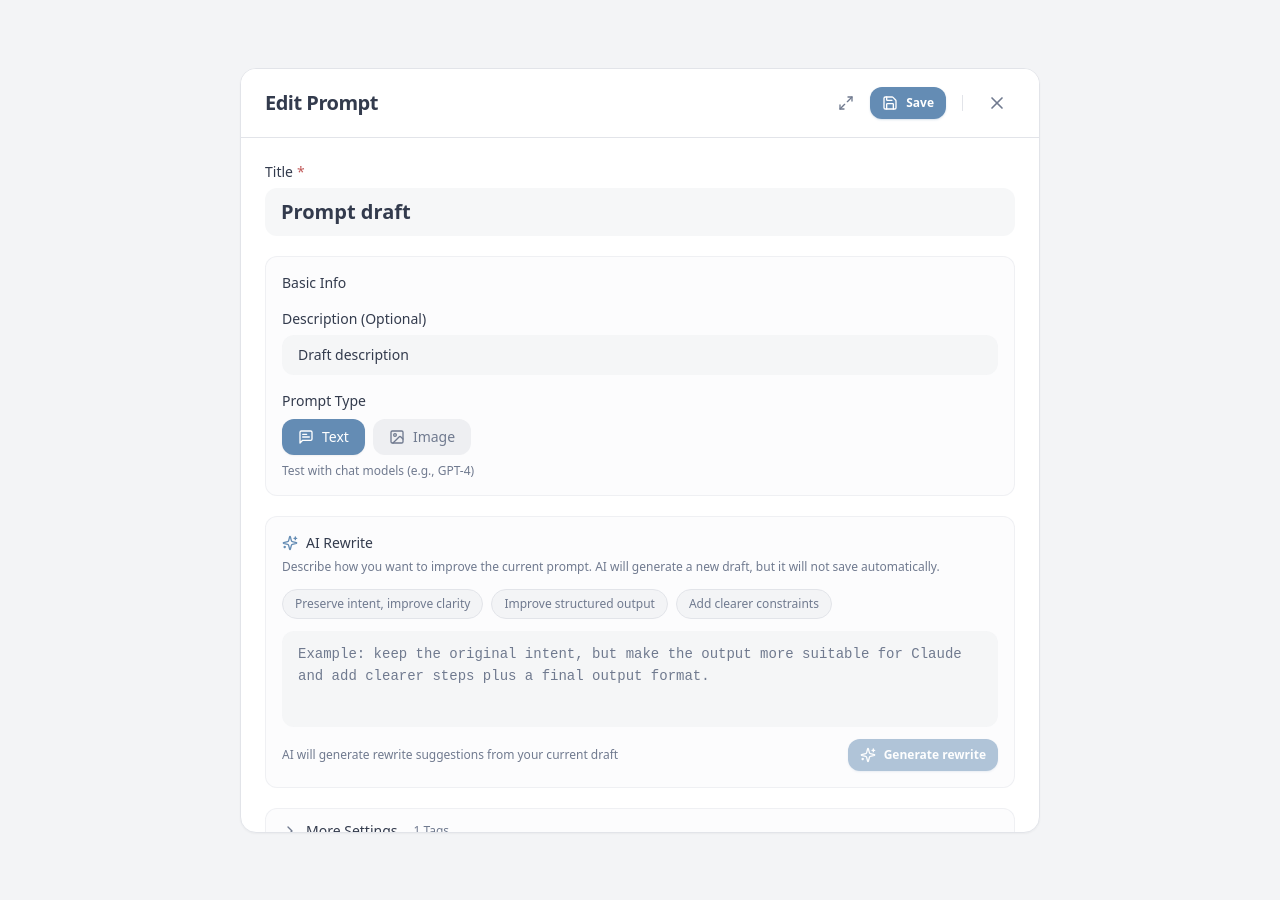
Test case: Prompt modal structure › surfaces rewrite failures from the AI service
Click the text box with placeholder "Example: keep the original intent, but make the output more suitable for Claude and add clearer steps plus a final outpu" at (640, 678), box [282,630,998,726]
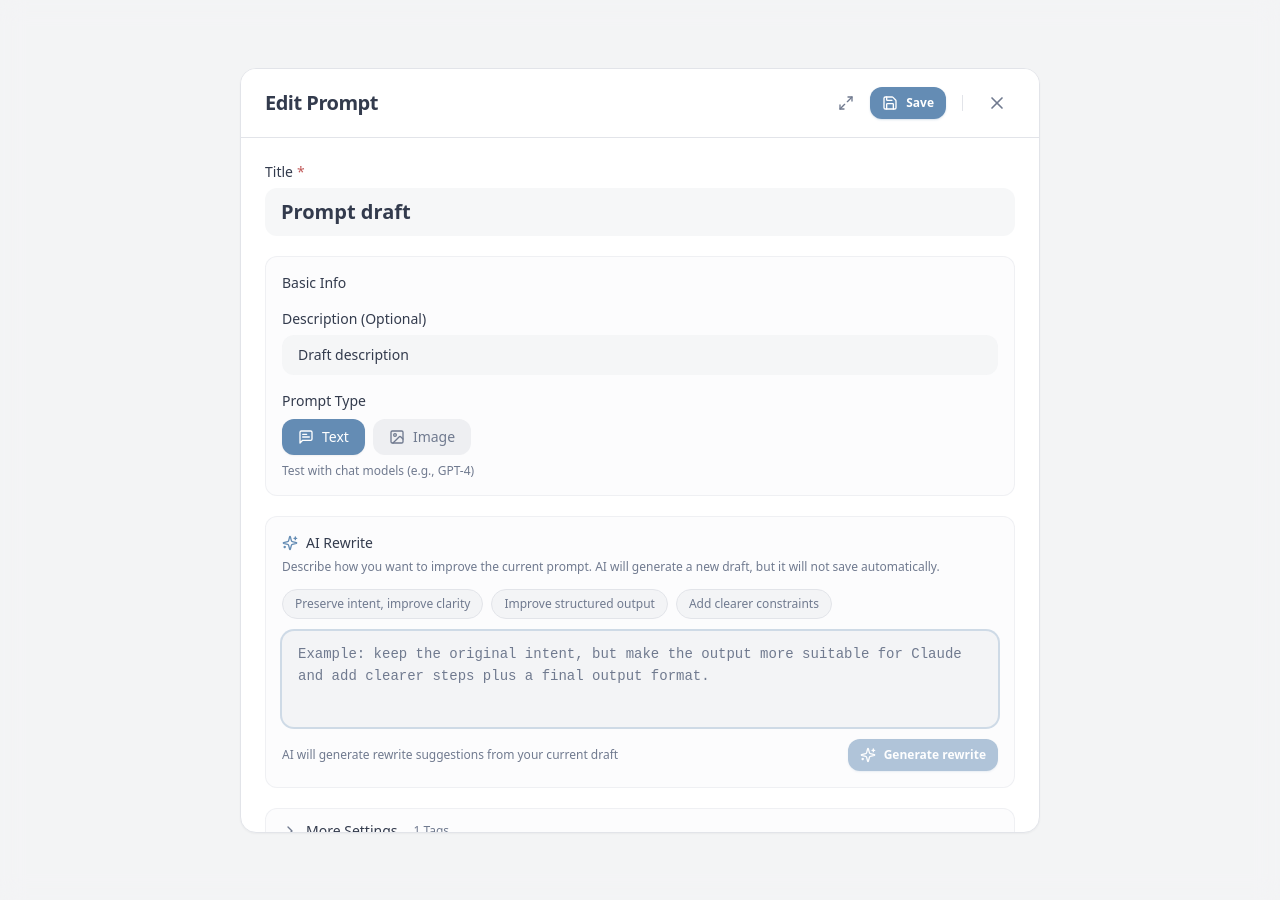
Type keys "Make it clearer."
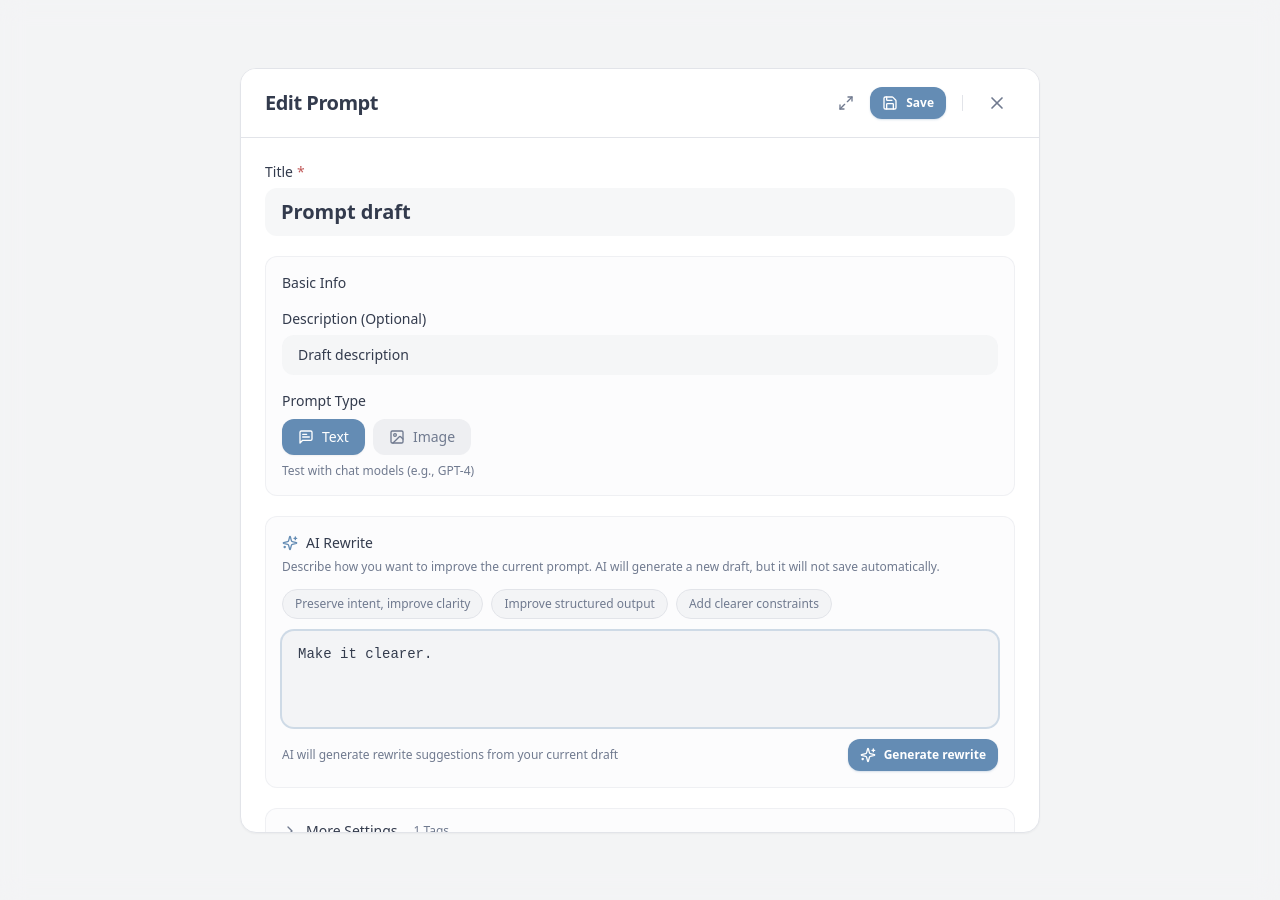
Click the button "Generate rewrite" at (923, 754), box [848,738,998,770]
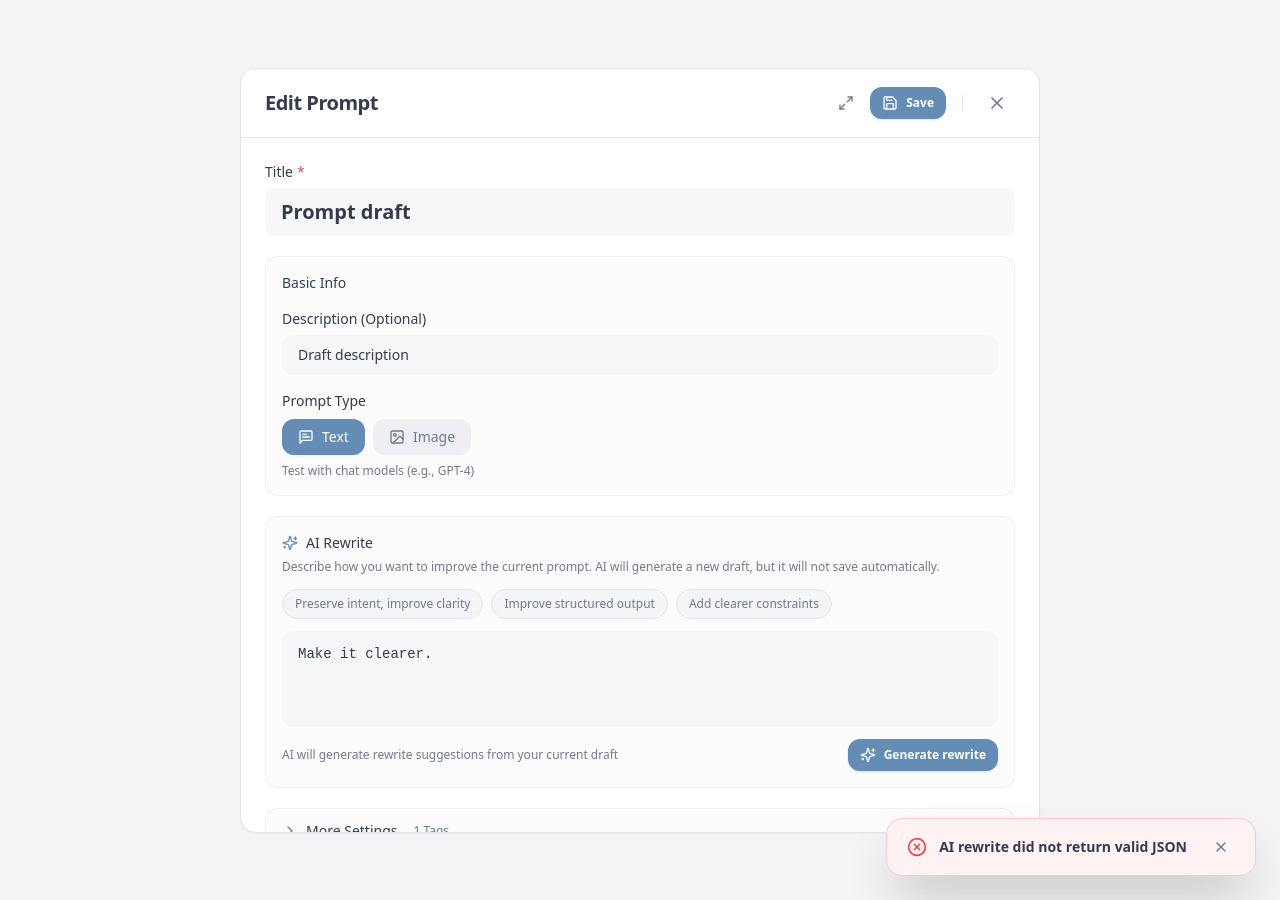
Now the text "AI rewrite did not return valid JSON" is shown, box [939,837,1187,857]
